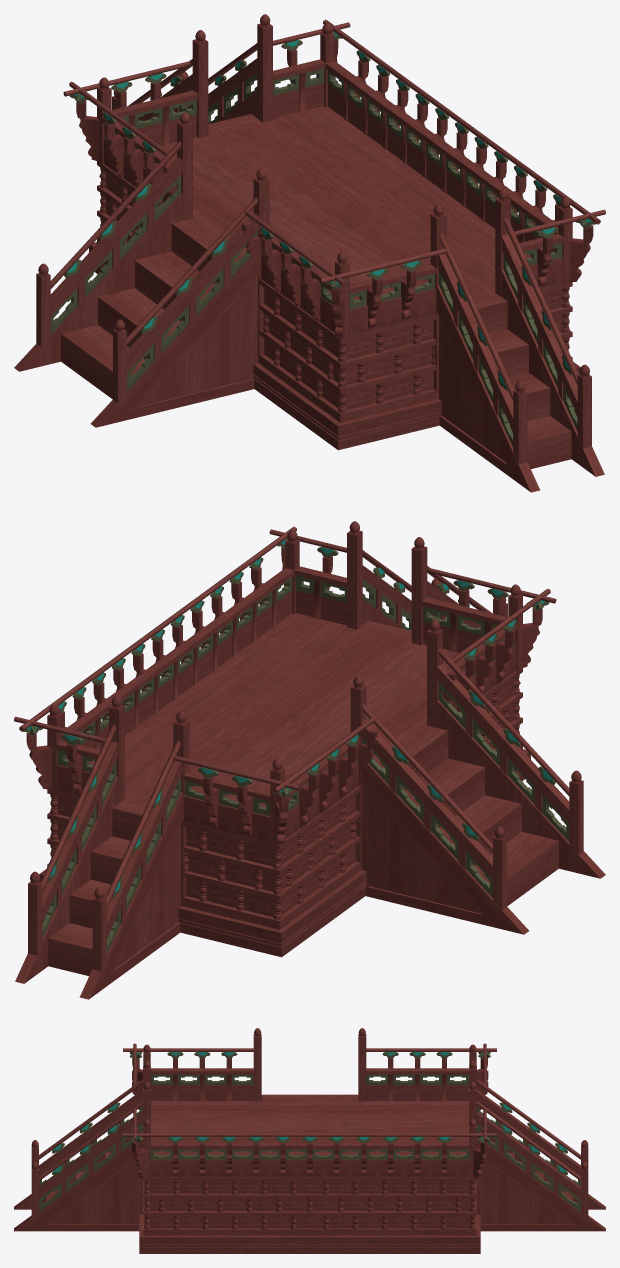
File: SM_Throne01A.fbx
The picture shows the model from 3 angles, top to bottom: view 1: azimuth 30°, elevation 25°; view 2: azimuth 150°, elevation 25°; view 3: azimuth 270°, elevation 25°; orthographic projection. The views are drawn at different scales.
Visible parts, largest first — view 1: SM_Throne01A; view 2: SM_Throne01A; view 3: SM_Throne01A.
Part boxes in pixels (box(x1,y1,x2,y2)): SM_Throne01A: box(14, 14, 605, 492); SM_Throne01A: box(14, 521, 605, 999); SM_Throne01A: box(14, 1028, 605, 1253).
Bounding box in the file's own units: 335 × 594 × 164.
